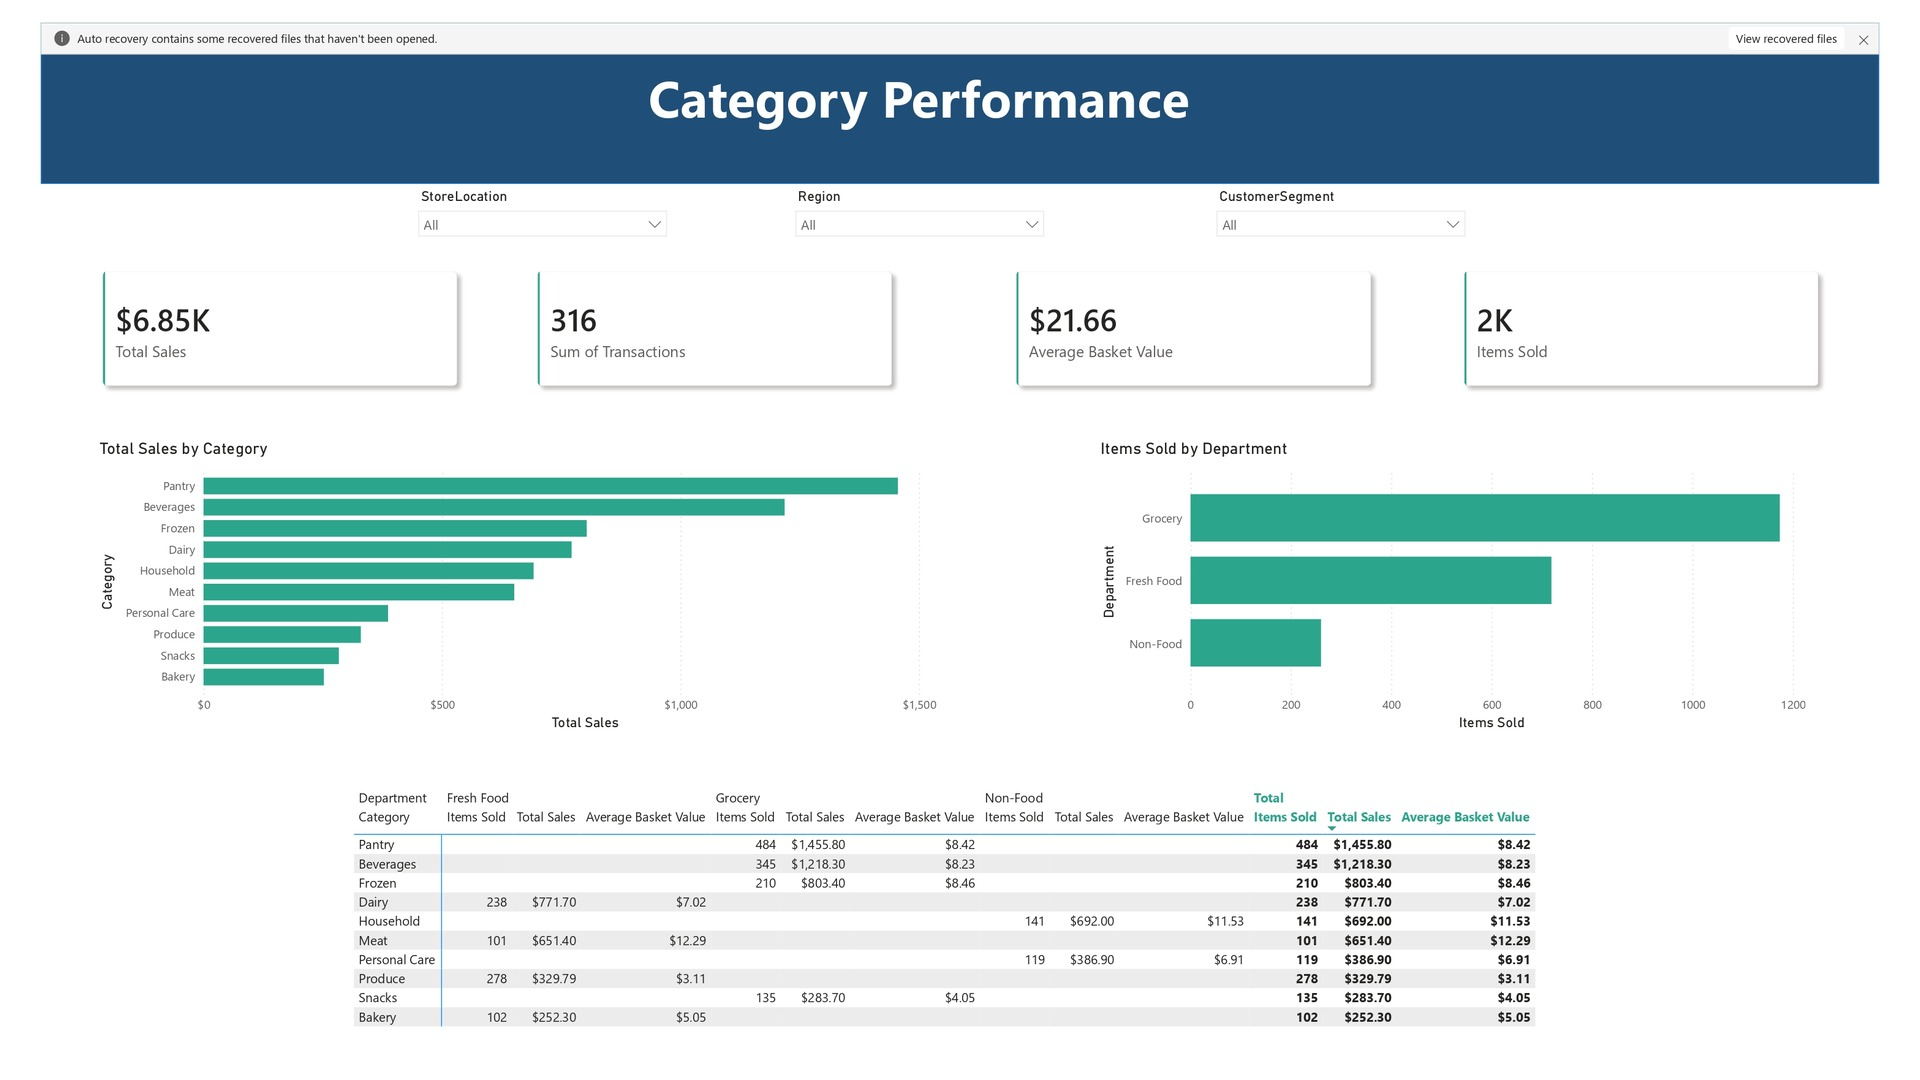

Layout of this report page (visuals, bound fields, positions):
{"tool":"powerbi","page":{"name":"Category Performance","canvas":[1920,1080],"ordinal":1},"visuals":[{"type":"cardVisual","fields":{"Data":["FactTransactions.Total Sales"]},"box":[36,230,428,178],"z":0},{"type":"cardVisual","fields":{"Data":["FactTransactions.Items Sold"]},"box":[1458,230,428,178],"z":1000},{"type":"cardVisual","fields":{"Data":["FactTransactions.Average Basket Value"]},"box":[990,230,428,178],"z":2000},{"type":"clusteredBarChart","fields":{"Category":["FactTransactions.Category"],"Y":["FactTransactions.Total Sales"]},"box":[56,434,934,310],"z":3000},{"type":"clusteredBarChart","fields":{"Category":["FactTransactions.Department"],"Y":["FactTransactions.Items Sold"]},"box":[1102,434,746,310],"z":4000},{"type":"pivotTable","fields":{"Rows":["FactTransactions.Category"],"Columns":["FactTransactions.Department"],"Values":["FactTransactions.Items Sold","FactTransactions.Total Sales","FactTransactions.Average Basket Value"]},"box":[322,794,1276,286],"z":5000},{"type":"slicer","fields":{"Values":["FactTransactions.Region"]},"box":[778,168,280,62],"z":6000},{"type":"slicer","fields":{"Values":["FactTransactions.StoreLocation"]},"box":[384,168,280,72],"z":7000},{"type":"slicer","fields":{"Values":["FactTransactions.CustomerSegment"]},"box":[1218,168,280,72],"z":8000},{"type":"shape","box":[0,0,1920,168],"z":9000},{"type":"cardVisual","fields":{"Data":["Sum(Customer Summary.Transactions)"]},"box":[490,230,428,178],"z":10000},{"type":"textbox","box":[176,36,1482,96],"z":10001}]}

Visuals, with their boxes on the page's 1920x1080 design canvas (x1, y1, x2, y2). These are canvas units, not pixel positions in the 1920x1080 screenshot, which may show the page scaled, cropped or inside an application window:
cardVisual - FactTransactions.Total Sales: (36,230,464,408)
cardVisual - FactTransactions.Items Sold: (1458,230,1886,408)
cardVisual - FactTransactions.Average Basket Value: (990,230,1418,408)
clusteredBarChart - FactTransactions.Category x FactTransactions.Total Sales: (56,434,990,744)
clusteredBarChart - FactTransactions.Department x FactTransactions.Items Sold: (1102,434,1848,744)
pivotTable - FactTransactions.Category x FactTransactions.Department: (322,794,1598,1080)
slicer - FactTransactions.Region: (778,168,1058,230)
slicer - FactTransactions.StoreLocation: (384,168,664,240)
slicer - FactTransactions.CustomerSegment: (1218,168,1498,240)
shape: (0,0,1920,168)
cardVisual - Sum(Customer Summary.Transactions): (490,230,918,408)
textbox: (176,36,1658,132)
